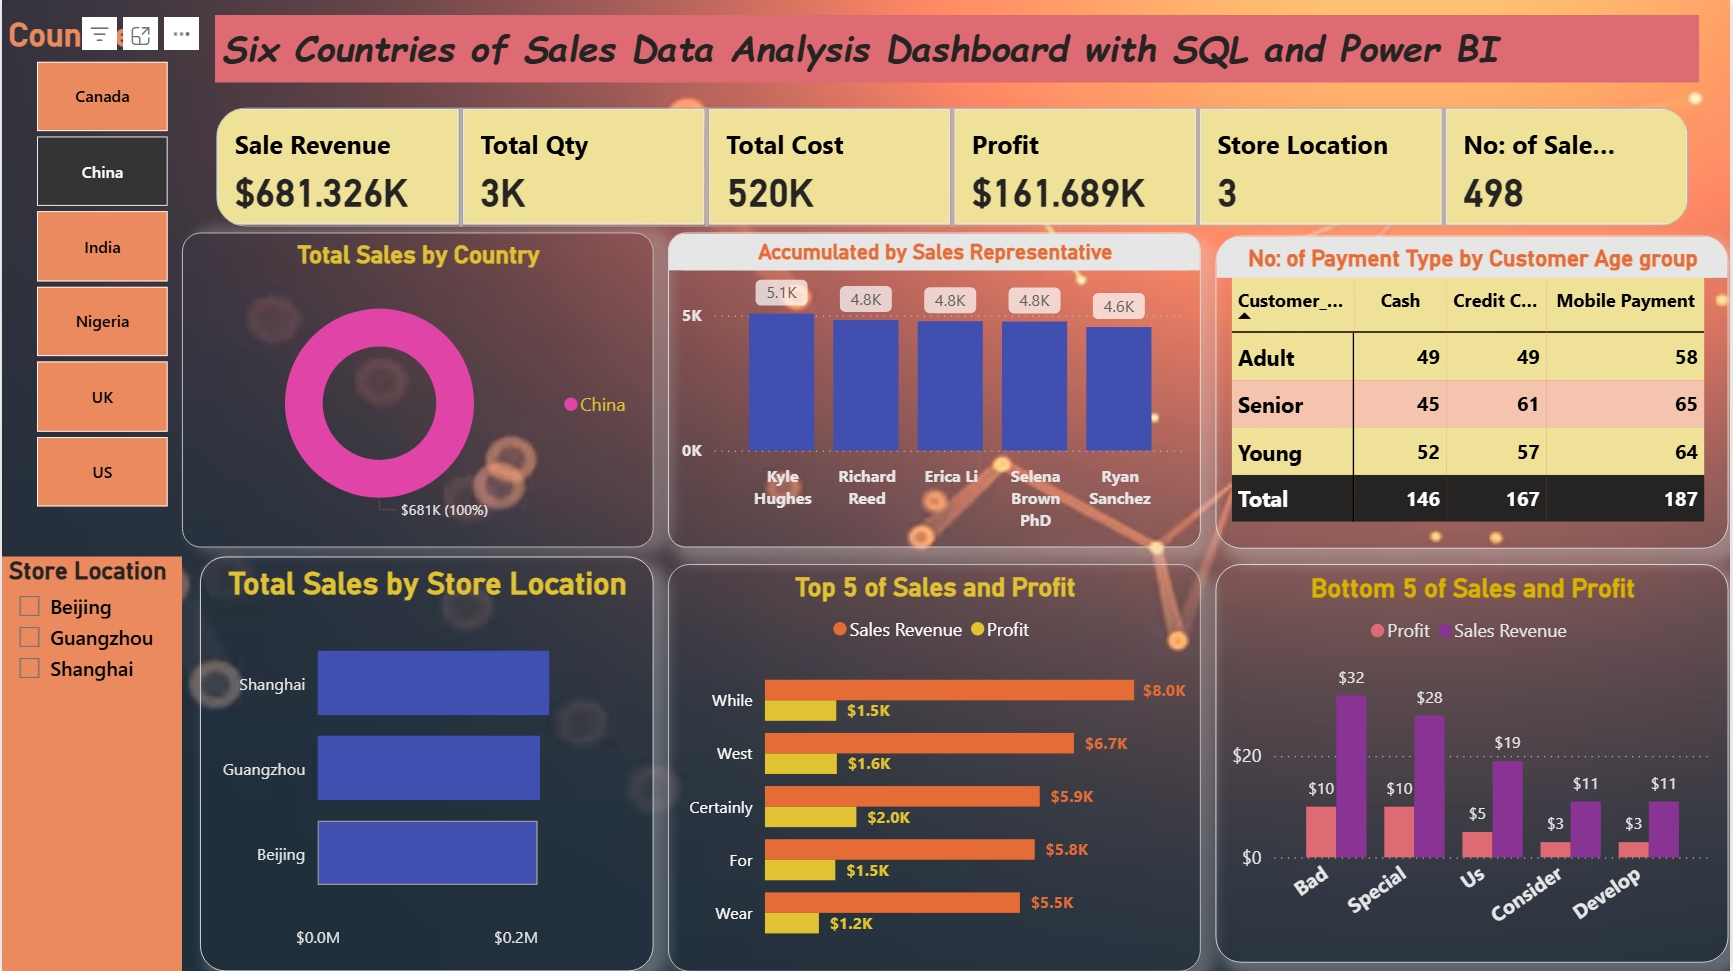

The page's visual inventory and layout, read from the dashboard file:
{"tool":"powerbi","page":{"name":"Page 1","canvas":[1280,720],"ordinal":0},"visuals":[{"type":"slicer","title":"Countries","fields":{"Values":["6countriessaledatabase allsalesdata.Country"]},"box":[0,10.6,146.9,371],"z":0},{"type":"cardVisual","fields":{"Data":["Measurement.Total Sales","Measurement.TotalQty","Sum(6countriessaledatabase allsalesdata.TotalCost)","Sum(6countriessaledatabase allsalesdata.Profit)","Count(6countriessaledatabase allsalesdata.Store_Location)","Count(6countriessaledatabase allsalesdata.Sales_Rep)"]},"box":[133.3,74.2,1146.3,98.4],"z":1000},{"type":"slicer","title":"Store Location","fields":{"Values":["6countriessaledatabase allsalesdata.Store_Location"]},"box":[0,411.9,133.3,307.4],"z":2000},{"type":"donutChart","fields":{"Category":["6countriessaledatabase allsalesdata.Country"],"Y":["Measurement.Total Sales"]},"box":[132.9,172.7,349.3,233.5],"z":3000},{"type":"pivotTable","title":"No: of Payment Type by Customer Age group","fields":{"Rows":["6countriessaledatabase allsalesdata.Customer_Age_Group"],"Columns":["6countriessaledatabase allsalesdata.Payment_Method"],"Values":["CountNonNull(6countriessaledatabase allsalesdata.Payment_Method)"]},"box":[899.4,174.1,380.1,231.7],"z":4000},{"type":"clusteredBarChart","title":"Top 5 of Sales and Profit","fields":{"Category":["6countriessaledatabase allsalesdata.Product_Name"],"Y":["Measurement.Total Sales","Sum(6countriessaledatabase allsalesdata.Profit)"]},"box":[493.5,417.6,394.8,301.8],"z":5000},{"type":"clusteredColumnChart","title":"Bottom 5 of Sales and Profit","fields":{"Category":["6countriessaledatabase allsalesdata.Product_Name"],"Y":["Sum(6countriessaledatabase allsalesdata.Profit)","Measurement.Total Sales"]},"box":[899.4,417.9,380.1,295.3],"z":6000},{"type":"barChart","title":"Total Sales by Store Location","fields":{"Category":["6countriessaledatabase allsalesdata.Store_Location"],"Y":["Measurement.Total Sales"]},"box":[146.2,411.9,336,307.5],"z":7000},{"type":"lineStackedColumnComboChart","title":"Accumulated by Sales Representative","fields":{"Category":["6countriessaledatabase allsalesdata.Sales_Rep"],"Y":["Measurement.Total YTD"]},"box":[493.5,172.7,394.8,233.5],"z":8000},{"type":"textbox","box":[157.5,10.6,1099.3,50],"z":9000}]}

Visuals, with their boxes on the page's 1280x720 design canvas (x1, y1, x2, y2). These are canvas units, not pixel positions in the 1733x971 screenshot, which may show the page scaled, cropped or inside an application window:
"Countries" slicer: rect(0, 11, 147, 382)
cardVisual - Measurement.Total Sales x Measurement.TotalQty: rect(133, 74, 1280, 173)
"Store Location" slicer: rect(0, 412, 133, 719)
donutChart - 6countriessaledatabase allsalesdata.Country x Measurement.Total Sales: rect(133, 173, 482, 406)
"No: of Payment Type by Customer Age group" pivotTable: rect(899, 174, 1280, 406)
"Top 5 of Sales and Profit" clusteredBarChart: rect(494, 418, 888, 719)
"Bottom 5 of Sales and Profit" clusteredColumnChart: rect(899, 418, 1280, 713)
"Total Sales by Store Location" barChart: rect(146, 412, 482, 719)
"Accumulated by Sales Representative" lineStackedColumnComboChart: rect(494, 173, 888, 406)
textbox: rect(158, 11, 1257, 61)
